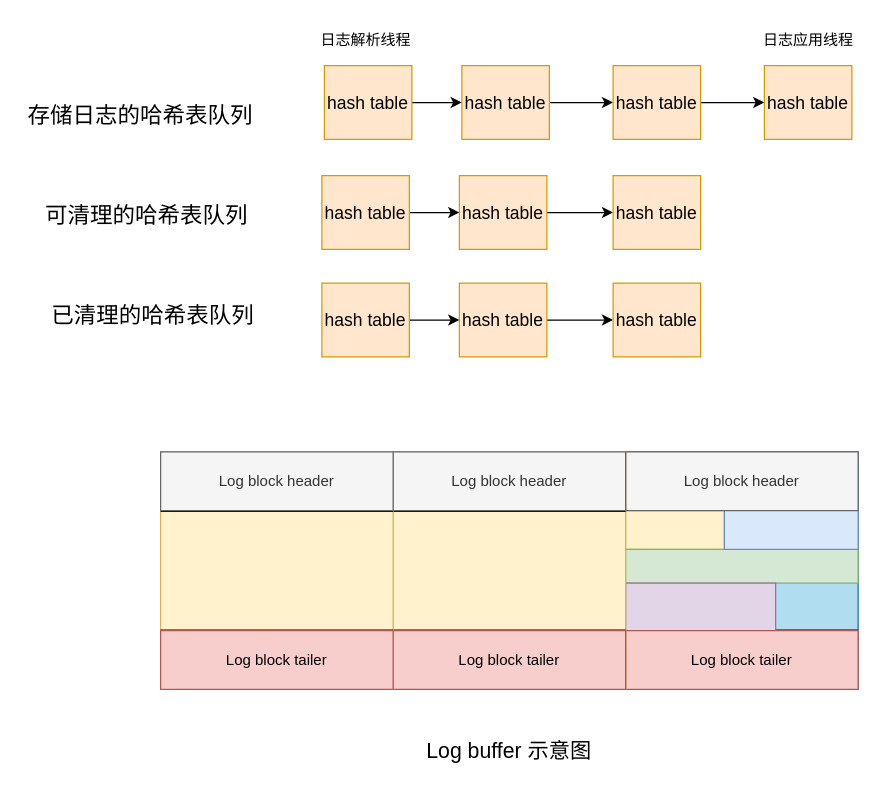
This 883x791 diagram has some shape labels left out. Each missing label, with the centre of its shape:
"redo 1" belongs at [674,529].
"redo 2" belongs at [790,528].
"redo 3" belongs at [741,565].
"redo 4" belongs at [700,607].
